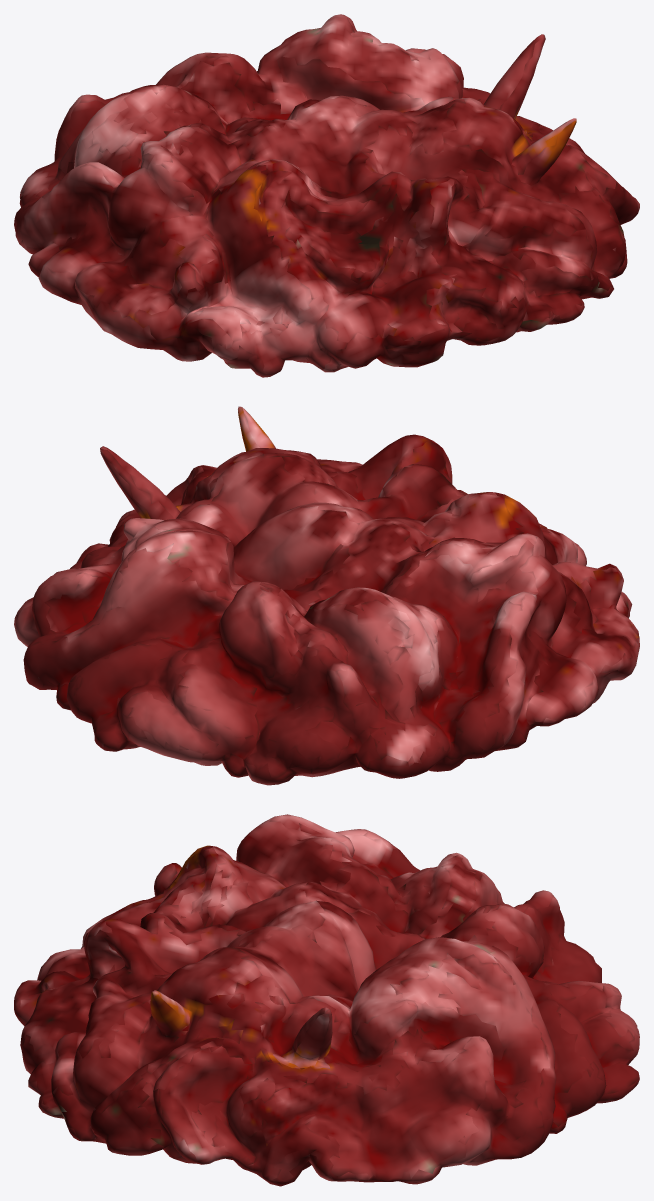
File: SARGL0.obj
The picture shows the model from 3 angles, top to bottom: view 1: azimuth 30°, elevation 25°; view 2: azimuth 150°, elevation 25°; view 3: azimuth 270°, elevation 25°; orthographic projection.
Size of the model in its own units: 1 by 0.3148 by 0.996.
1 material, 1 textured.
